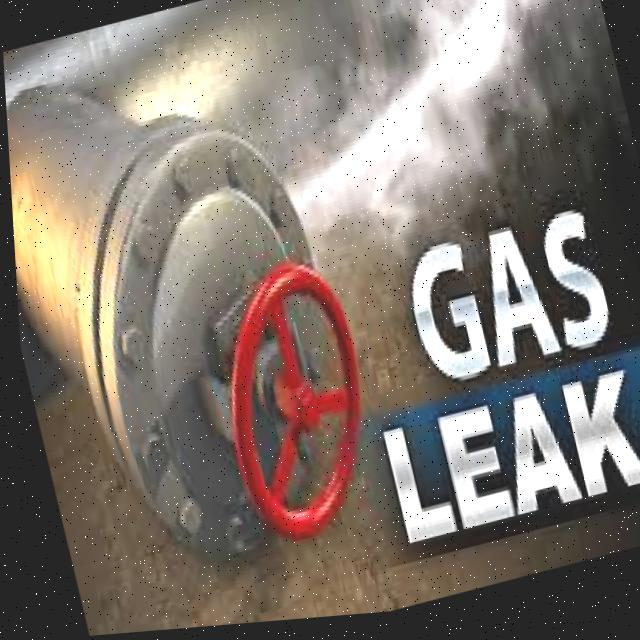corrosion: (229, 74, 404, 355)
